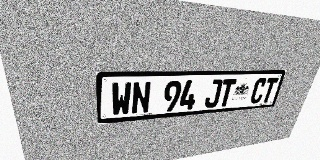4: (179, 80, 199, 110)
9: (162, 80, 182, 112)
C: (249, 78, 268, 104)
J: (203, 79, 223, 108)
N: (131, 81, 151, 115)
T: (217, 79, 237, 107), (260, 78, 279, 103)
W: (111, 82, 132, 116)
